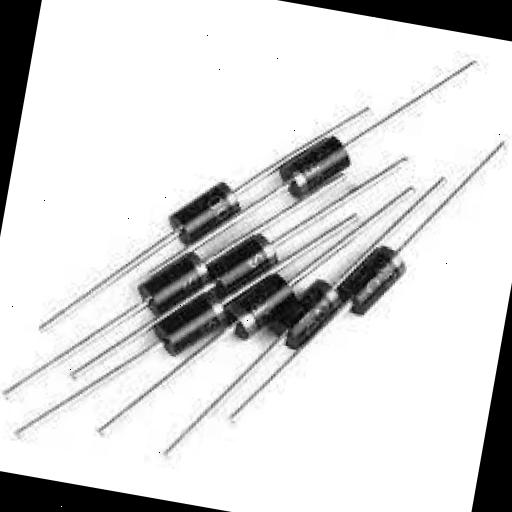DIODE: (0, 0, 512, 503), (261, 108, 384, 239), (327, 234, 431, 350), (156, 162, 256, 268), (219, 262, 311, 352), (120, 233, 220, 315), (276, 261, 346, 376), (212, 223, 284, 323), (146, 286, 231, 370)
